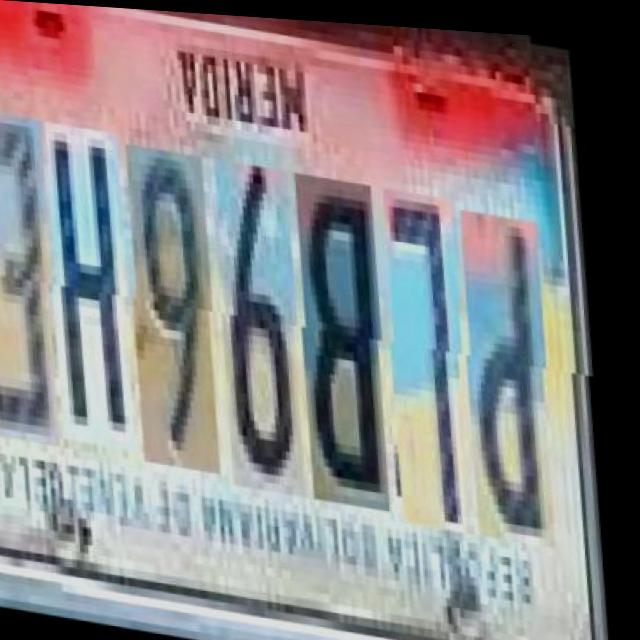6: (125, 153, 238, 479)
9: (212, 164, 322, 500)
b: (293, 174, 407, 511)
e: (0, 124, 77, 459)
h: (43, 132, 152, 460)
l: (381, 187, 488, 530)
p: (459, 206, 573, 543)
